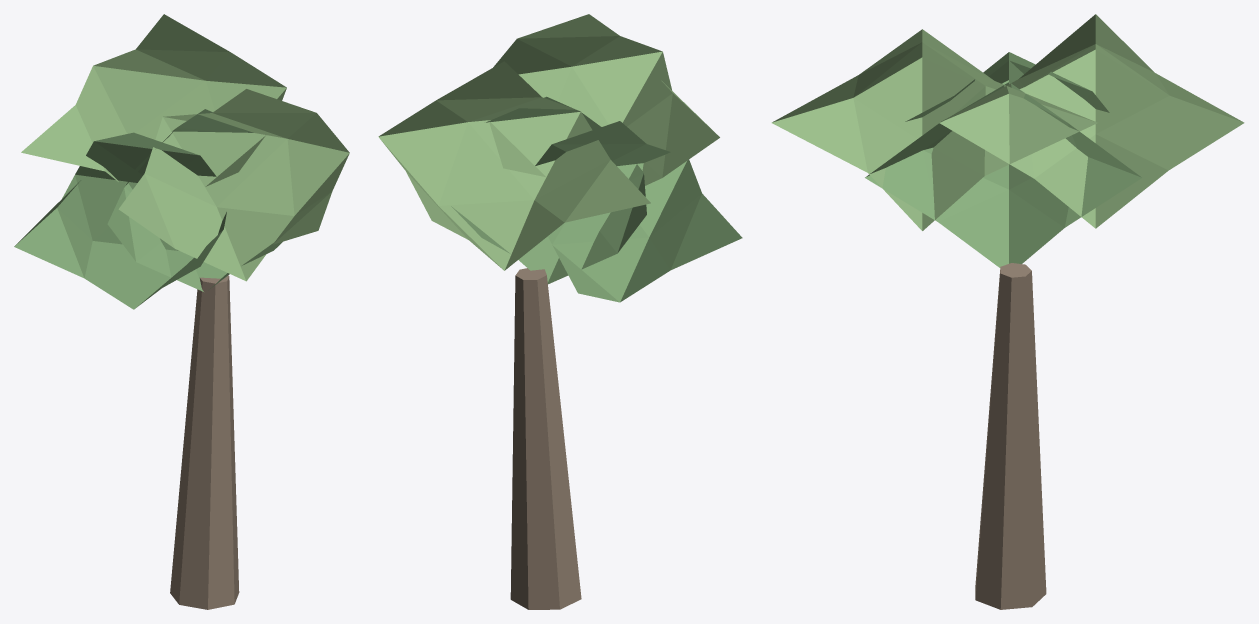
File: broadleaf_v09.glb
3 renders of one model, left to right at view 1: azimuth 30°, elevation 25°; view 2: azimuth 150°, elevation 25°; view 3: azimuth 270°, elevation 25°, orthographic. The views are drawn at different scales.
Visible parts, largest first — view 1: lod0; view 2: lod0; view 3: lod0.
Boxes of the visible parts, x1=… form: lod0: x1=14, y1=14, x2=349, y2=609; lod0: x1=378, y1=14, x2=742, y2=609; lod0: x1=771, y1=14, x2=1244, y2=609.
Size of what is drawn, in the model's own units: 3.84 by 6.18 by 4.56.
